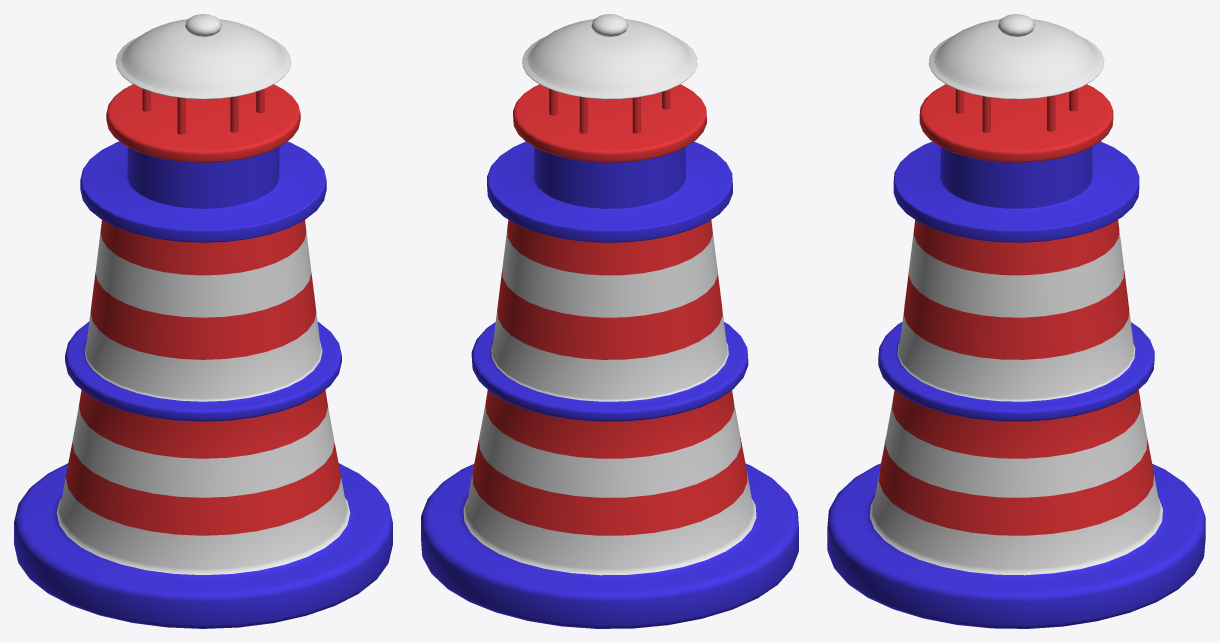
The model's file is LightHouse.fbx.
The picture shows the model from 3 angles, left to right: view 1: azimuth 30°, elevation 25°; view 2: azimuth 150°, elevation 25°; view 3: azimuth 270°, elevation 25°; orthographic projection.
Parts seen in each view (by area): view 1: LightHouse; view 2: LightHouse; view 3: LightHouse.
Part boxes in pixels (left/top/right/bottom): LightHouse: left=14, top=14, right=392, bottom=628; LightHouse: left=421, top=14, right=798, bottom=628; LightHouse: left=827, top=14, right=1205, bottom=628.
Size of the model in its own units: 4519 by 7054 by 4519.
